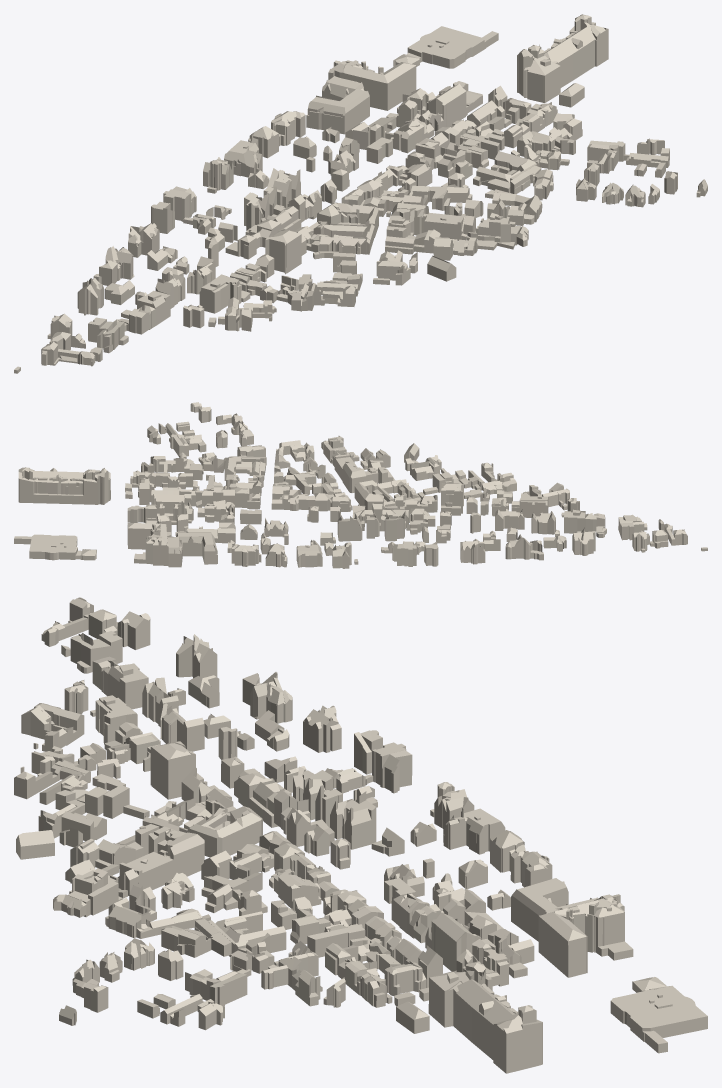
The picture shows the model from 3 angles, top to bottom: view 1: azimuth 30°, elevation 25°; view 2: azimuth 150°, elevation 25°; view 3: azimuth 270°, elevation 25°; orthographic projection. The views are drawn at different scales.
Bounding box in the file's own units: 517 × 38.26 × 311.
